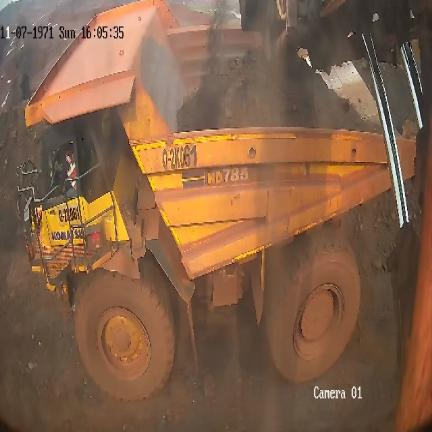pile: (175, 43, 369, 131)
